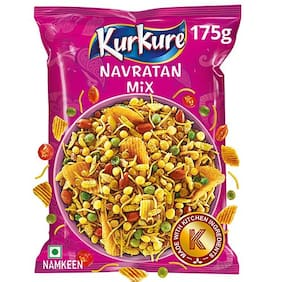kurkure: (86, 21, 195, 62)
plastic: (32, 7, 244, 282)
wrapper: (49, 17, 235, 270)
